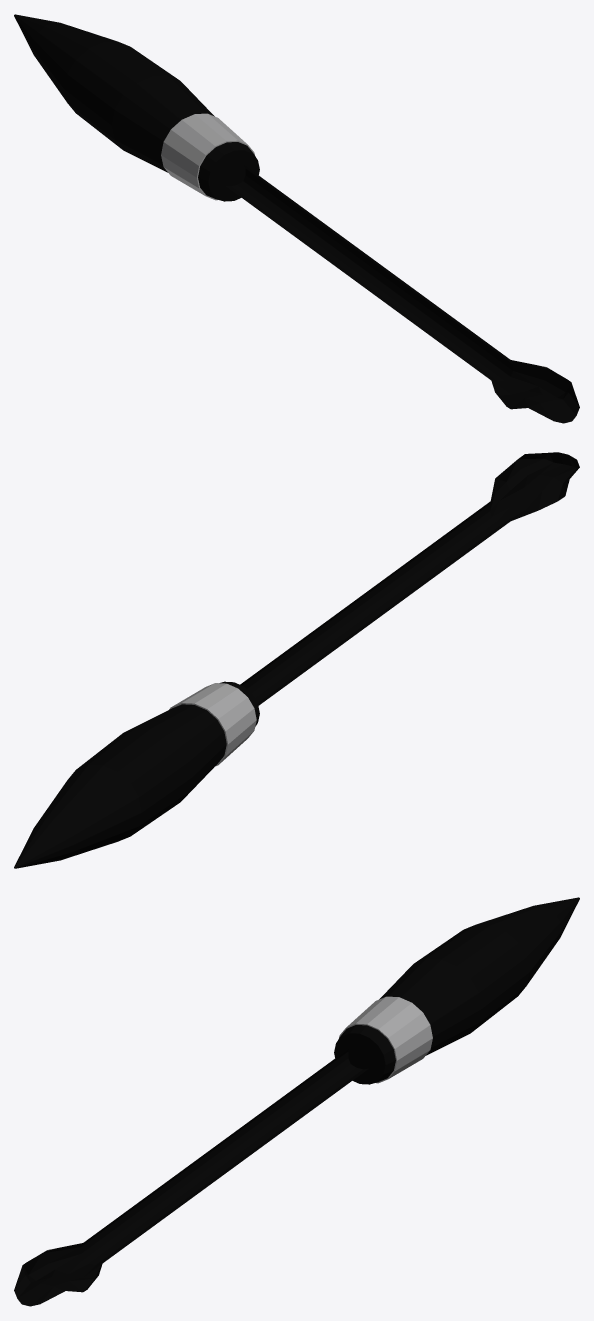
Rendered from nimbus2001.obj.
The picture shows the model from 3 angles, top to bottom: view 1: azimuth 30°, elevation 25°; view 2: azimuth 150°, elevation 25°; view 3: azimuth 330°, elevation 25°; orthographic projection.
Parts seen in each view (by area): view 1: Body; view 2: Body; view 3: Body.
Part boxes in pixels (x1=…): Body: x1=14, y1=14, x2=579, y2=423; Body: x1=14, y1=452, x2=579, y2=868; Body: x1=14, y1=897, x2=579, y2=1306.
Size of the model in its own units: 0.413 by 0.3848 by 4.9.
